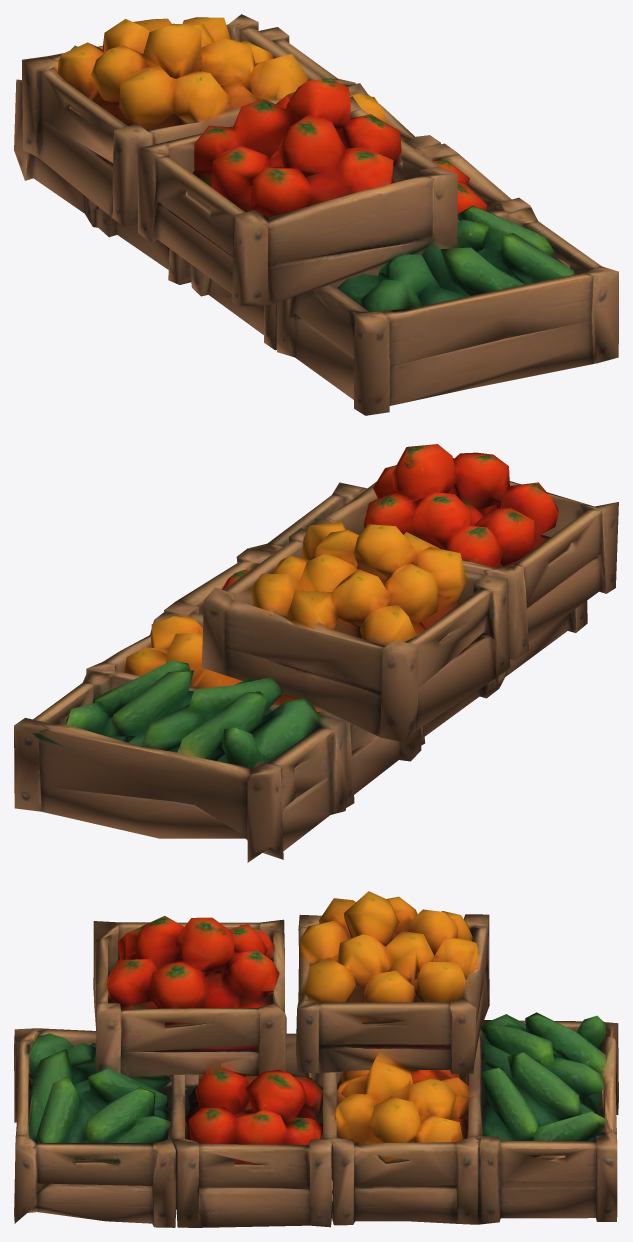
The model's file is ob_crates.glb.
3 views of the same model, one above another, from view 1: azimuth 30°, elevation 25°; view 2: azimuth 150°, elevation 25°; view 3: azimuth 270°, elevation 25° (orthographic). The views are drawn at different scales.
Visible parts, largest first — view 1: tripo_node_b7d48c25-2960-4f46-8c85-11b9e0e7de2c; view 2: tripo_node_b7d48c25-2960-4f46-8c85-11b9e0e7de2c; view 3: tripo_node_b7d48c25-2960-4f46-8c85-11b9e0e7de2c.
Boxes of the visible parts, <box> form: tripo_node_b7d48c25-2960-4f46-8c85-11b9e0e7de2c: <box>14,14,618,415</box>; tripo_node_b7d48c25-2960-4f46-8c85-11b9e0e7de2c: <box>14,444,618,862</box>; tripo_node_b7d48c25-2960-4f46-8c85-11b9e0e7de2c: <box>14,891,618,1227</box>.
Bounding box in the file's own units: 0.5774 × 0.4096 × 0.9995.
1 material, 1 textured.
